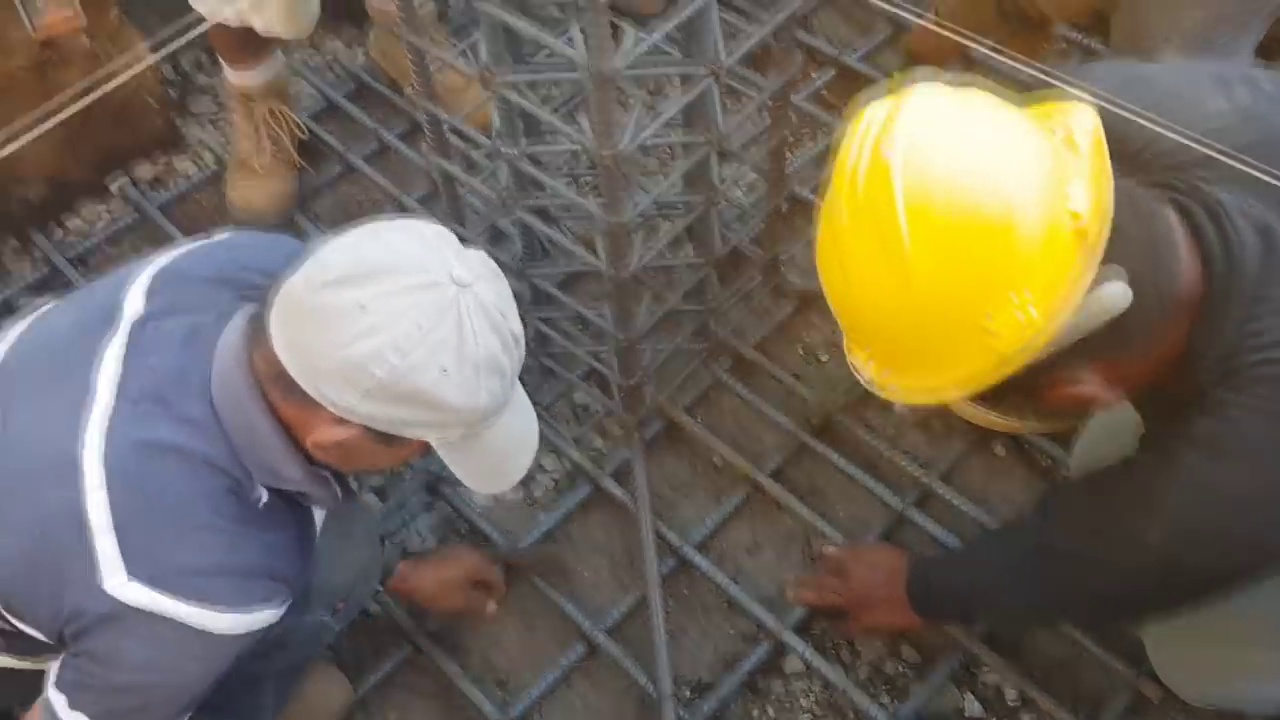helmet: (812, 71, 1120, 406)
helmet-off: (246, 212, 540, 496)
helmet-on: (809, 71, 1214, 412)
person: (808, 76, 1280, 719), (0, 206, 547, 718)
